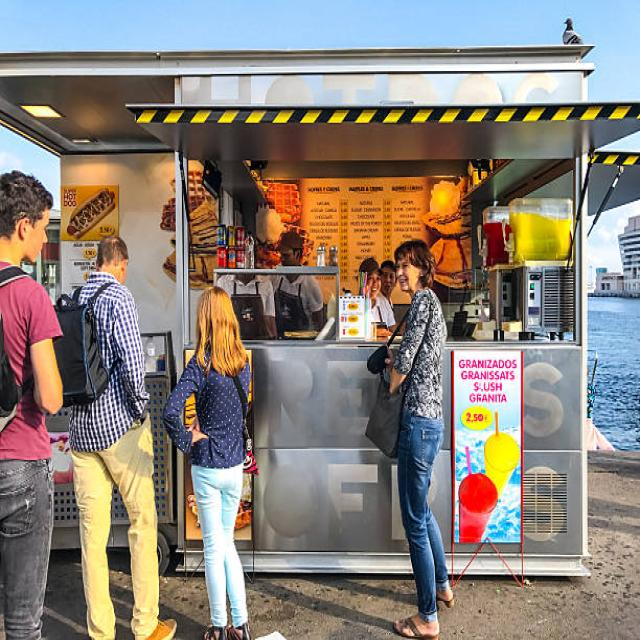Emperan: (0, 32, 640, 618)
